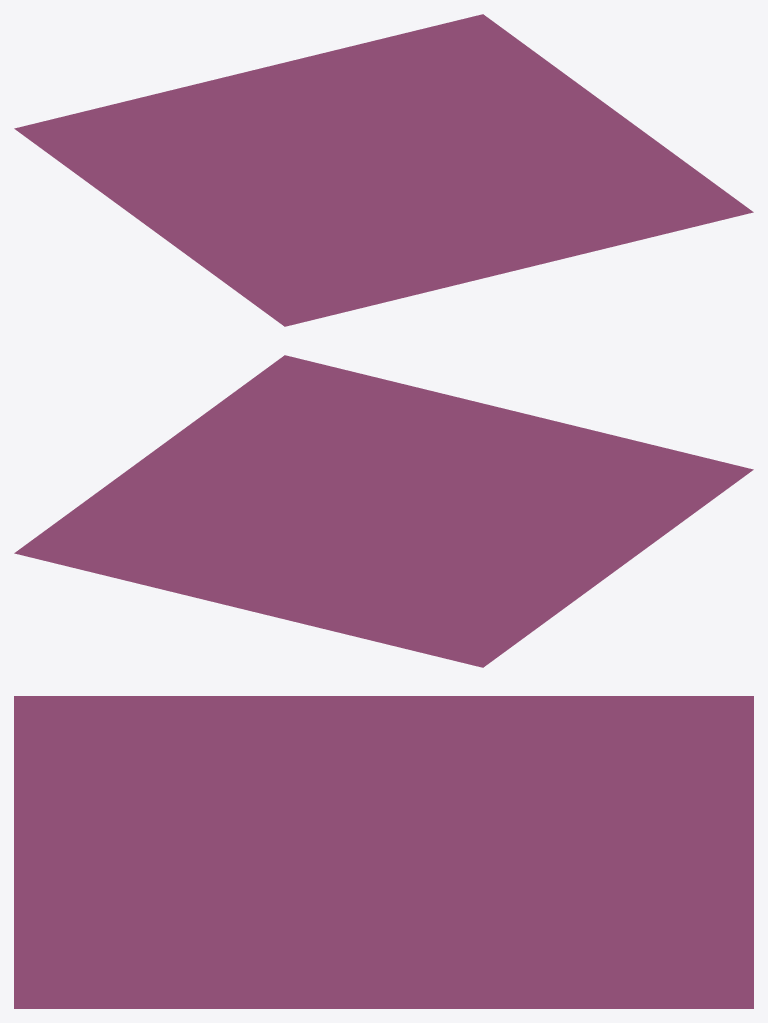
The model's file is pembe_cmen.fbx.
3 renders of one model, top to bottom at view 1: azimuth 30°, elevation 25°; view 2: azimuth 150°, elevation 25°; view 3: azimuth 270°, elevation 25°, orthographic. The views are drawn at different scales.
Visible parts, largest first — view 1: Plane.005; view 2: Plane.005; view 3: Plane.005.
Part boxes in pixels (bbox=[...]): Plane.005: bbox=[14, 14, 753, 326]; Plane.005: bbox=[14, 355, 753, 667]; Plane.005: bbox=[14, 696, 753, 1008].
Size of the model in its own units: 3532 by 0.000575 by 3532.
